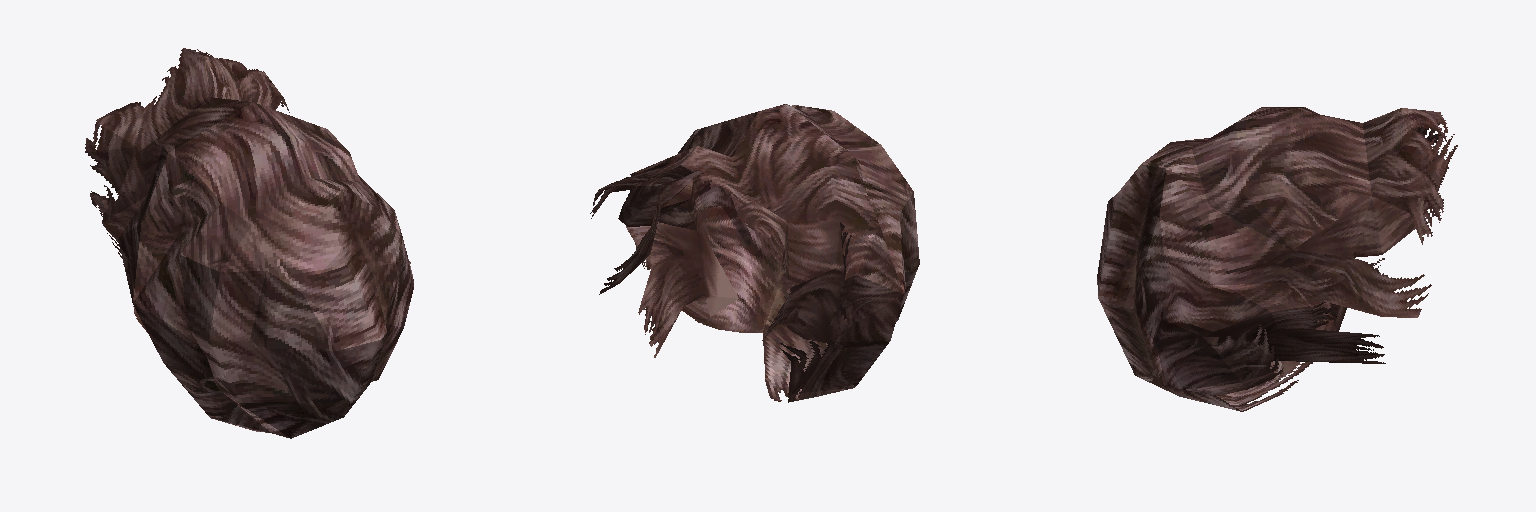
The picture shows the model from 3 angles: view 1: azimuth 30°, elevation 25°; view 2: azimuth 150°, elevation 25°; view 3: azimuth 270°, elevation 25°; orthographic projection.
Visible parts, largest first — view 1: common_hair_male_2014; view 2: common_hair_male_2014; view 3: common_hair_male_2014.
Boxes of the visible parts, box(x1,y1,x2,y2) form: common_hair_male_2014: box(85, 48, 413, 438); common_hair_male_2014: box(590, 104, 919, 402); common_hair_male_2014: box(1097, 107, 1457, 411).
Bounding box in the file's own units: 10.23 × 11.51 × 12.5.
1 materials, 1 textured.